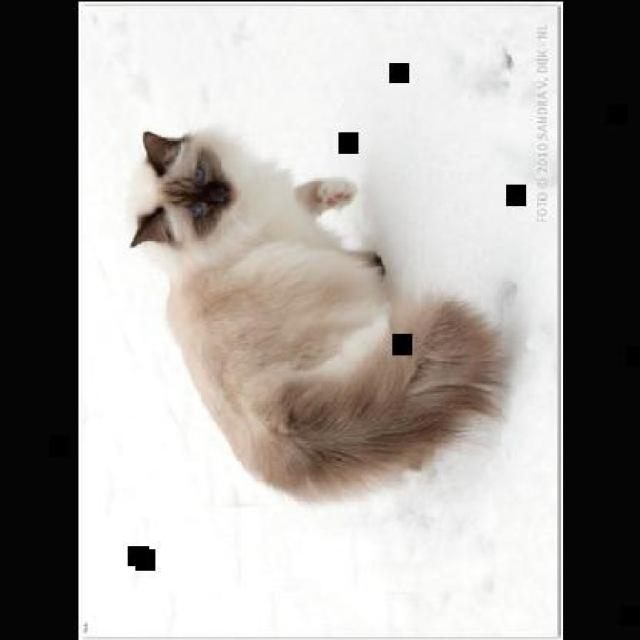unauthorized: (128, 126, 510, 503)
